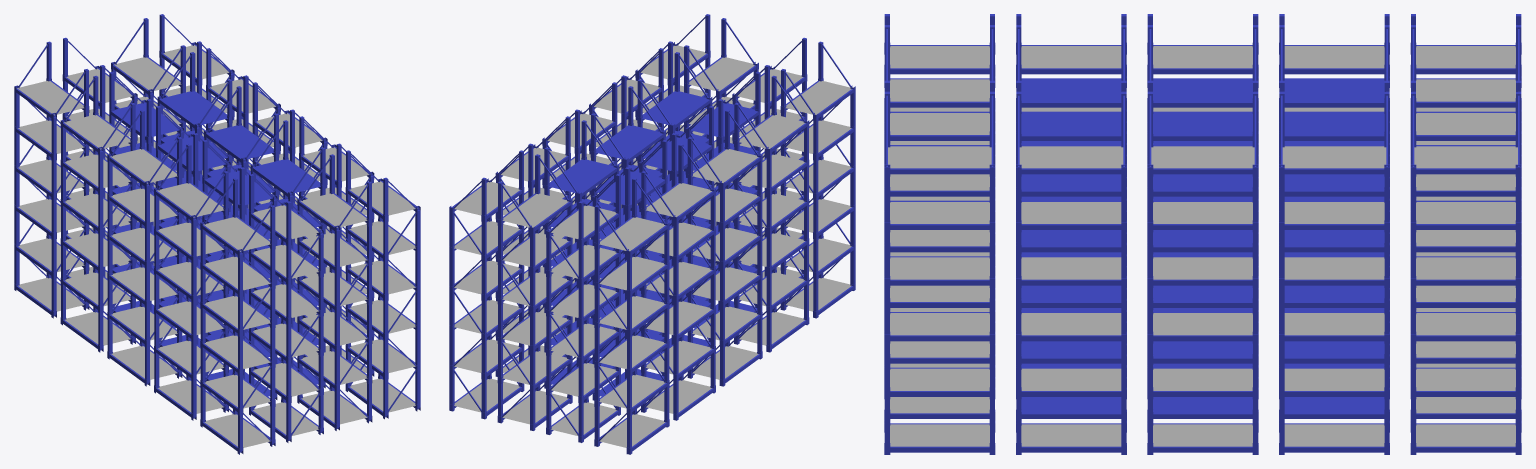
File: rack222.glb
3 renders of one model, left to right at view 1: azimuth 30°, elevation 25°; view 2: azimuth 150°, elevation 25°; view 3: azimuth 270°, elevation 25°, orthographic. The views are drawn at different scales.
Bounding box in the file's own units: 5.61 × 7.11 × 12.11.
Materials: 2 (1 with a texture image).
